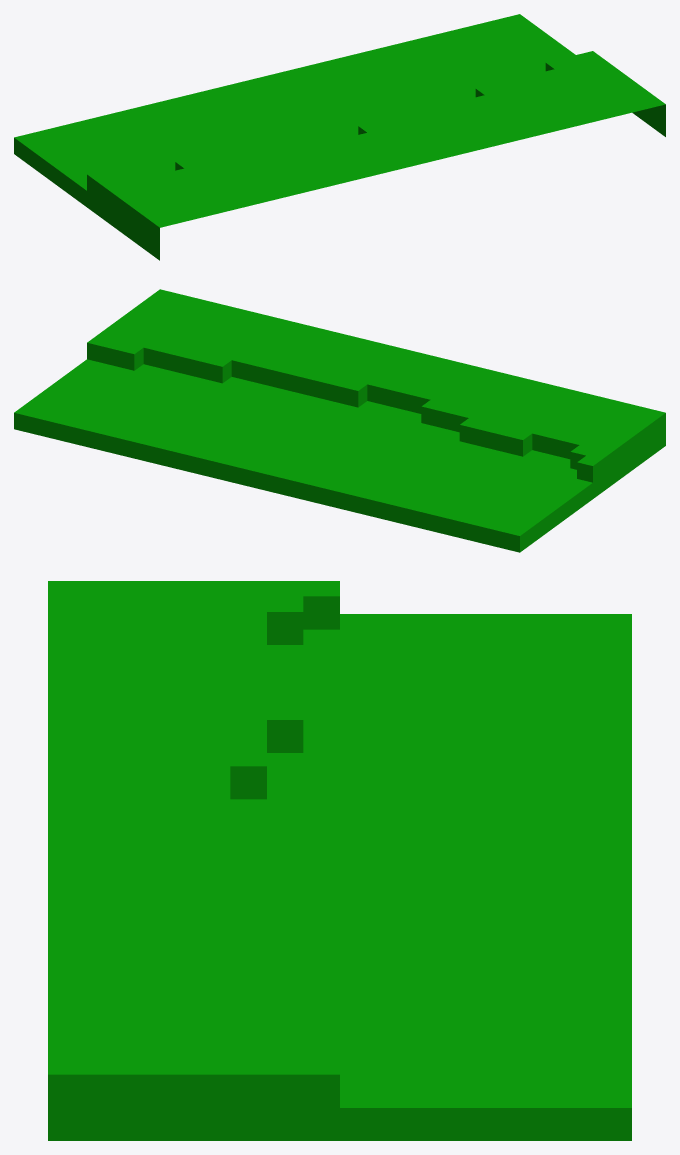
Rendered from Straight14.fbx.
The picture shows the model from 3 angles, top to bottom: view 1: azimuth 30°, elevation 25°; view 2: azimuth 150°, elevation 25°; view 3: azimuth 270°, elevation 25°; orthographic projection. The views are drawn at different scales.
Parts seen in each view (by area): view 1: Matrix; view 2: Matrix; view 3: Matrix.
Part boxes in pixels (x1,y1,x2,y2): Matrix: (14, 14, 665, 260); Matrix: (14, 289, 665, 552); Matrix: (48, 581, 631, 1140).
Size of the model in its own units: 32 by 2 by 16.
1 material, 1 textured.
